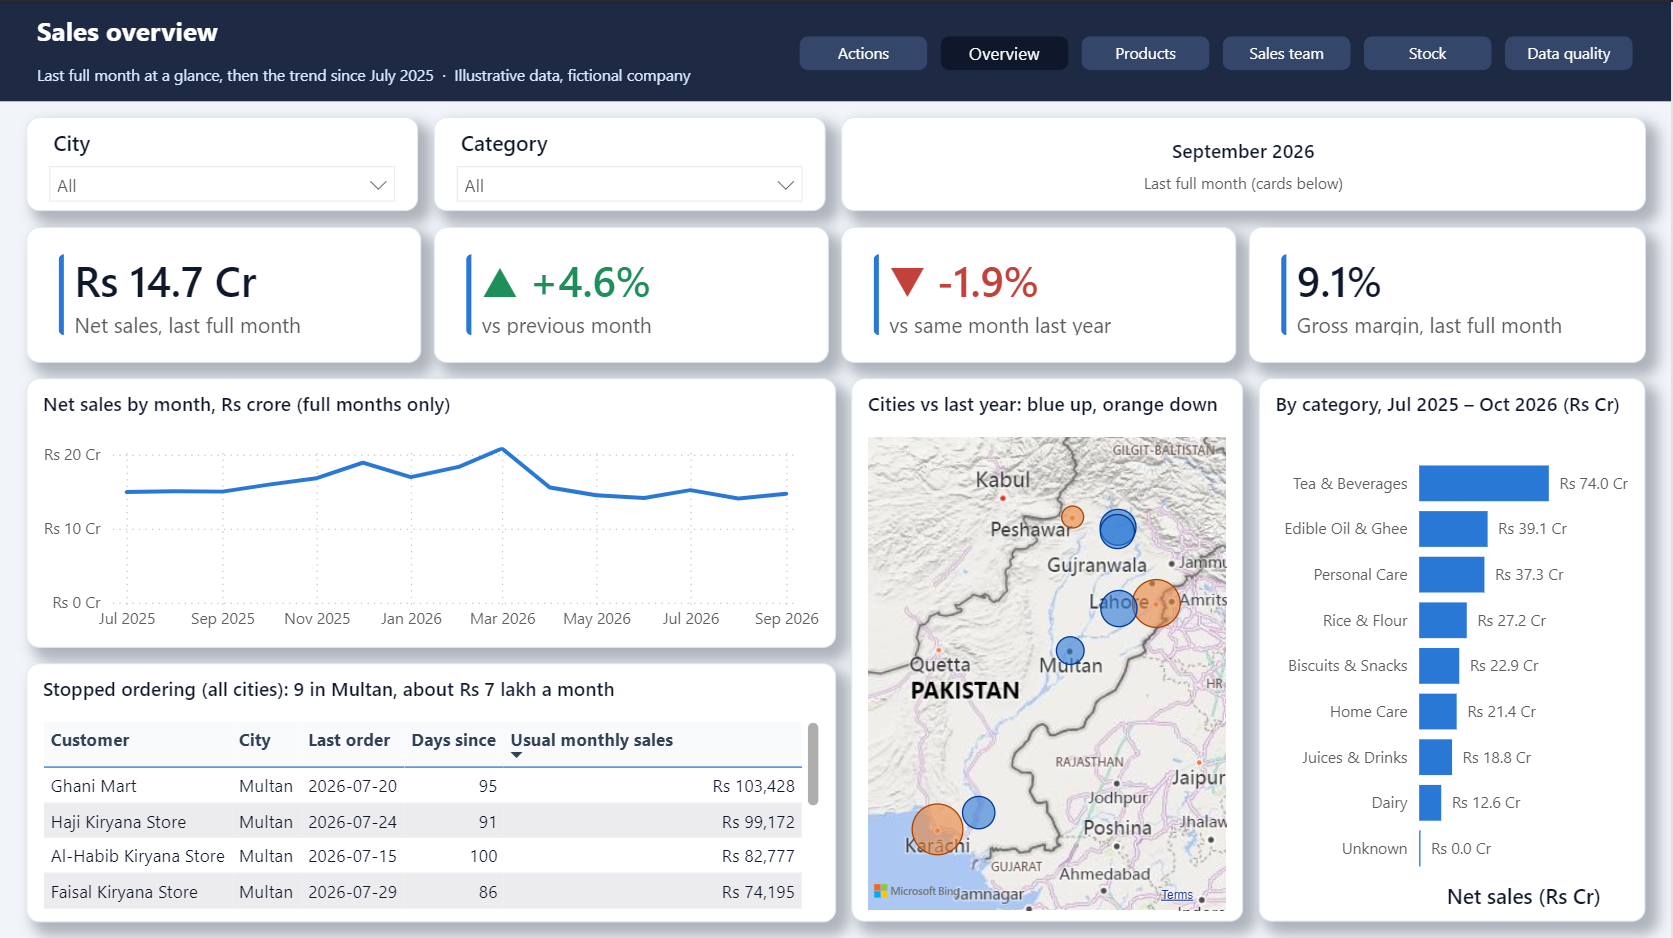

Layout of this report page (visuals, bound fields, positions):
{"tool":"powerbi","page":{"name":"Overview","canvas":[1280,720],"ordinal":1},"visuals":[{"type":"textbox","box":[0,0,1280,76],"z":1000},{"type":"textbox","box":[16,0,580,46],"z":2000},{"type":"textbox","box":[16,38,580,36],"z":3000},{"type":"pageNavigator","box":[600,18,664,42],"z":4000},{"type":"slicer","fields":{"Values":["rpt_sales_overview.city"]},"box":[20,88,300,72],"z":5000},{"type":"slicer","fields":{"Values":["rpt_sales_overview.category"]},"box":[332,88,300,72],"z":6000},{"type":"card","fields":{"Values":["rpt_sales_overview.Last Full Month"]},"box":[644,88,616,72],"z":7000},{"type":"cardVisual","fields":{"Data":["rpt_sales_overview.Net Sales Last Month Text"]},"box":[20,172,302,104],"z":8000},{"type":"cardVisual","fields":{"Data":["rpt_sales_overview.MoM %"]},"box":[332,172,302,104],"z":9000},{"type":"cardVisual","fields":{"Data":["rpt_sales_overview.YoY %"]},"box":[644,172,302,104],"z":10000},{"type":"cardVisual","fields":{"Data":["rpt_sales_overview.Gross Margin LM"]},"box":[956,172,304,104],"z":11000},{"type":"lineChart","title":"Net sales by month, Rs crore (full months only)","fields":{"Category":["dim_date.month_start"],"Y":["rpt_sales_overview.Net Sales Cr"]},"box":[20,288,620,206],"z":12000},{"type":"tableEx","title":"Stopped ordering (all cities): 9 in Multan, about Rs 7 lakh a month","fields":{"Values":["mart_customer_activity.customer_name","mart_customer_activity.city","mart_customer_activity.last_order_date","mart_customer_activity.days_since_last_order","mart_customer_activity.Customer Monthly Value"]},"box":[20,506,620,198],"z":13000},{"type":"map","title":"Cities vs last year: blue up, orange down","fields":{"Category":["rpt_sales_overview.city_location"],"Size":["rpt_sales_overview.Net Sales Cr"]},"box":[652,288,300,416],"z":14000},{"type":"clusteredBarChart","title":"By category, Jul 2025 – Oct 2026 (Rs Cr)","fields":{"Category":["rpt_sales_overview.category"],"Y":["rpt_sales_overview.Net Sales Cr"]},"box":[964,288,296,416],"z":15000}]}

Visuals, with their boxes in screenshot pixels (x1, y1, x2, y2), scaled from the page's 1280x720 canvas onto the 1673x938 screenshot:
textbox: {"x1": 0, "y1": 0, "x2": 1672, "y2": 99}
textbox: {"x1": 21, "y1": 0, "x2": 779, "y2": 60}
textbox: {"x1": 21, "y1": 50, "x2": 779, "y2": 96}
pageNavigator: {"x1": 784, "y1": 23, "x2": 1652, "y2": 78}
slicer - rpt_sales_overview.city: {"x1": 26, "y1": 115, "x2": 418, "y2": 208}
slicer - rpt_sales_overview.category: {"x1": 434, "y1": 115, "x2": 826, "y2": 208}
card - rpt_sales_overview.Last Full Month: {"x1": 842, "y1": 115, "x2": 1647, "y2": 208}
cardVisual - rpt_sales_overview.Net Sales Last Month Text: {"x1": 26, "y1": 224, "x2": 421, "y2": 360}
cardVisual - rpt_sales_overview.MoM %: {"x1": 434, "y1": 224, "x2": 829, "y2": 360}
cardVisual - rpt_sales_overview.YoY %: {"x1": 842, "y1": 224, "x2": 1236, "y2": 360}
cardVisual - rpt_sales_overview.Gross Margin LM: {"x1": 1250, "y1": 224, "x2": 1647, "y2": 360}
"Net sales by month, Rs crore (full months only)" lineChart: {"x1": 26, "y1": 375, "x2": 836, "y2": 644}
"Stopped ordering (all cities): 9 in Multan, about Rs 7 lakh a month" tableEx: {"x1": 26, "y1": 659, "x2": 836, "y2": 917}
"Cities vs last year: blue up, orange down" map: {"x1": 852, "y1": 375, "x2": 1244, "y2": 917}
"By category, Jul 2025 – Oct 2026 (Rs Cr)" clusteredBarChart: {"x1": 1260, "y1": 375, "x2": 1647, "y2": 917}
